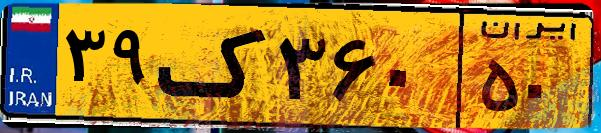0: (385, 28, 445, 110), (525, 38, 570, 115)
3: (270, 28, 330, 110), (57, 26, 110, 100)
5: (475, 38, 525, 113)
6: (330, 28, 385, 110)
9: (110, 28, 158, 98)
ک: (158, 12, 270, 120)
